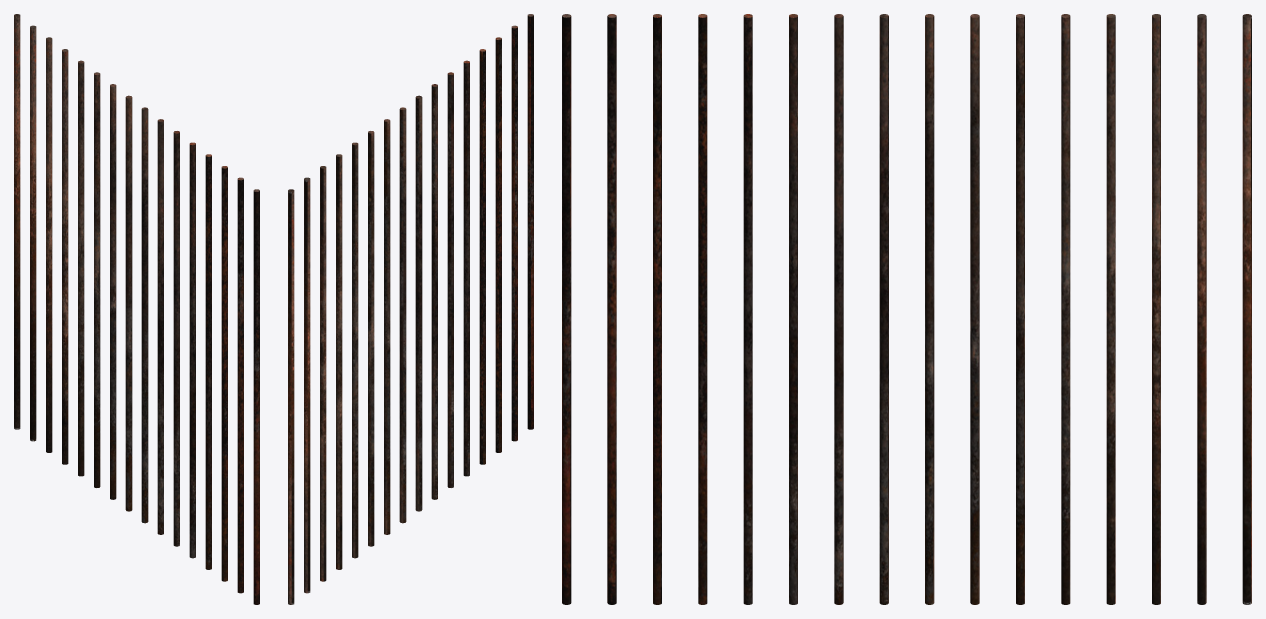
File: steel_gate.fbx
3 renders of one model, left to right at view 1: azimuth 30°, elevation 25°; view 2: azimuth 150°, elevation 25°; view 3: azimuth 270°, elevation 25°, orthographic. The views are drawn at different scales.
Visible parts, largest first — view 1: pCylinder20; view 2: pCylinder20; view 3: pCylinder20.
Boxes of the visible parts, box(x1,y1,x2,y2) form: pCylinder20: box(14, 14, 259, 604); pCylinder20: box(288, 14, 533, 604); pCylinder20: box(562, 14, 1251, 604).
Size of the model in its own units: 6.04 by 428 by 456.
Materials: 1 (1 with a texture image).
